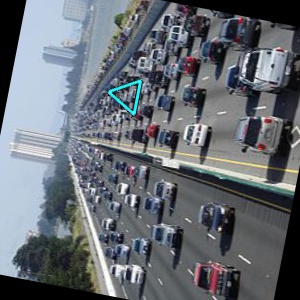triangle: (105, 77, 143, 118)
